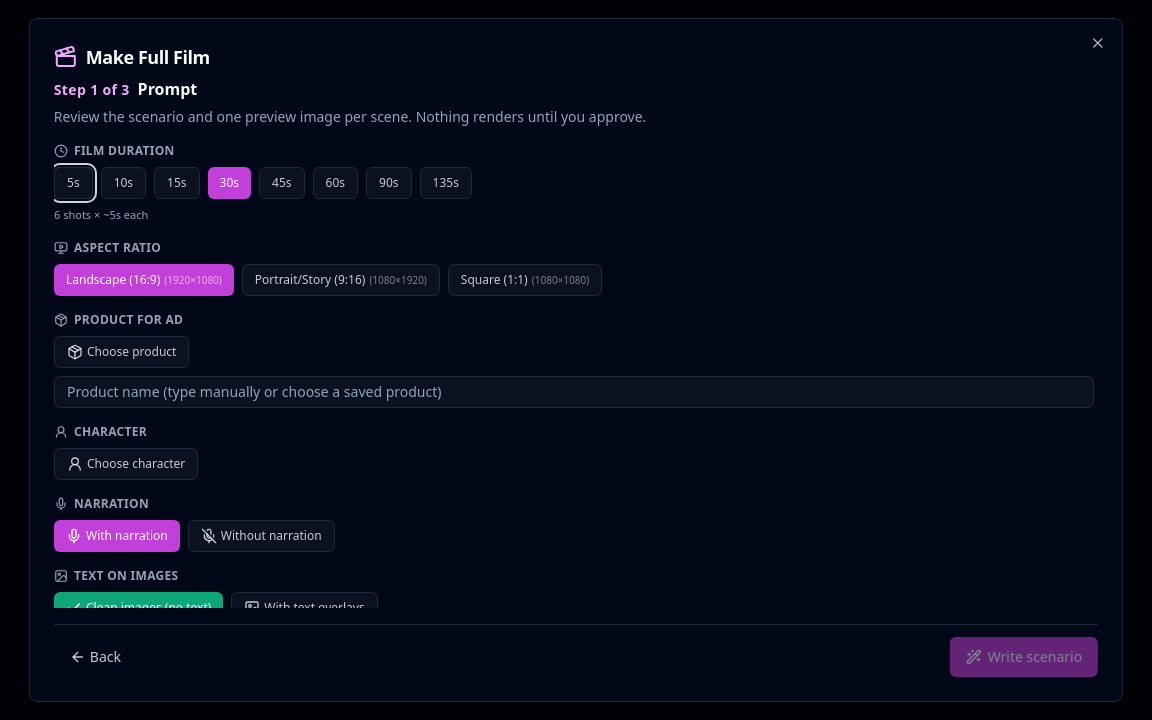
Test case: Product Picker image retry › shows Try again after two consecutive failures and blocks selection
Later steps or results of the test are not shown.
Click the button "Choose product": coordinates (122, 352) [54,336,189,368]
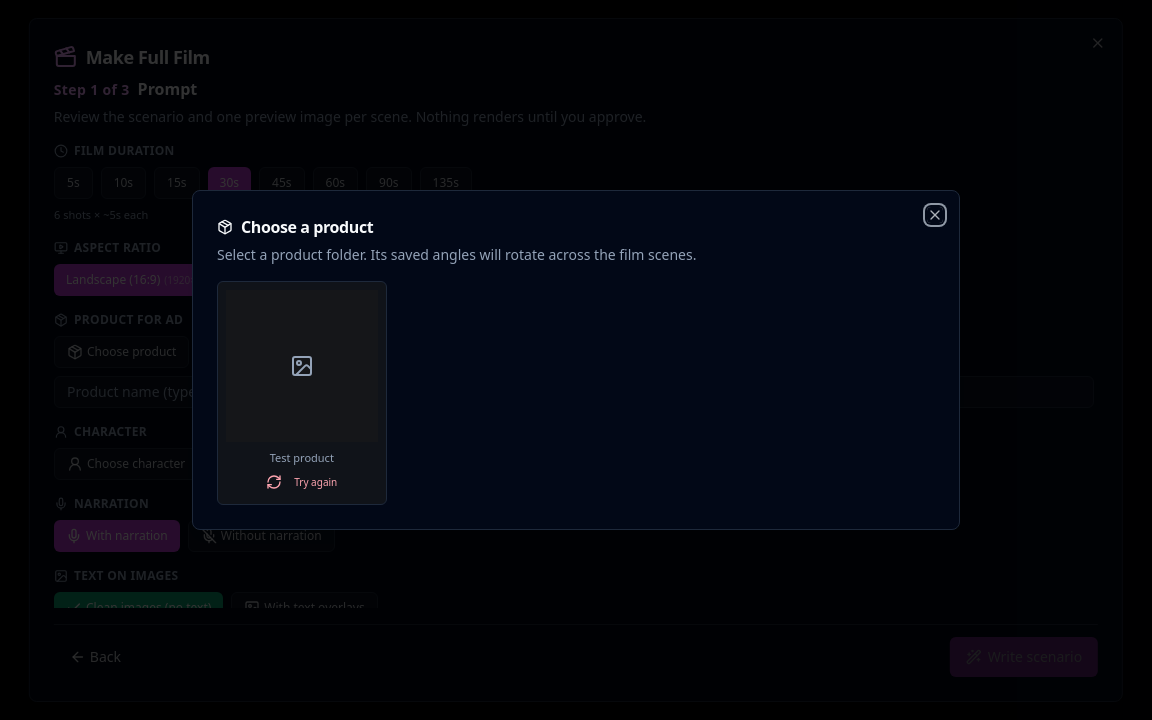
Expected: the text "Test product" is shown, [270,450,334,464]
Expected: the button "Try again" is shown, [254,470,349,494]
